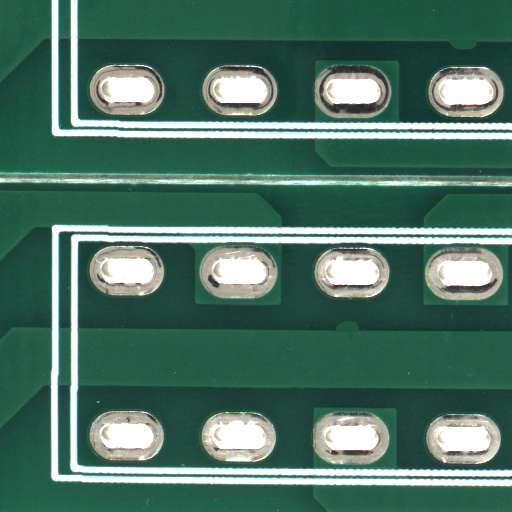Spur: (463, 45, 495, 56), (346, 327, 370, 338)
